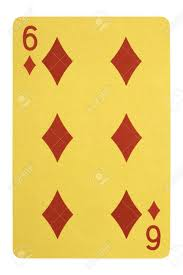six of diamonds: (12, 18, 170, 259)
